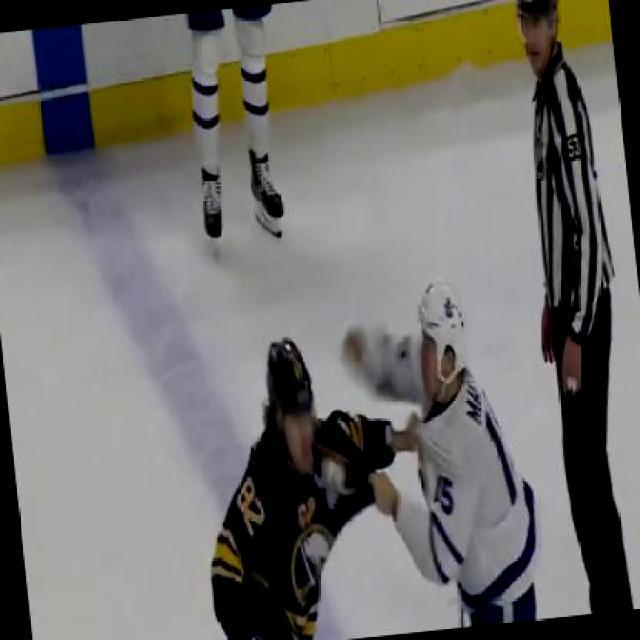fight: (180, 267, 548, 638)
non-fight: (499, 0, 638, 615)
